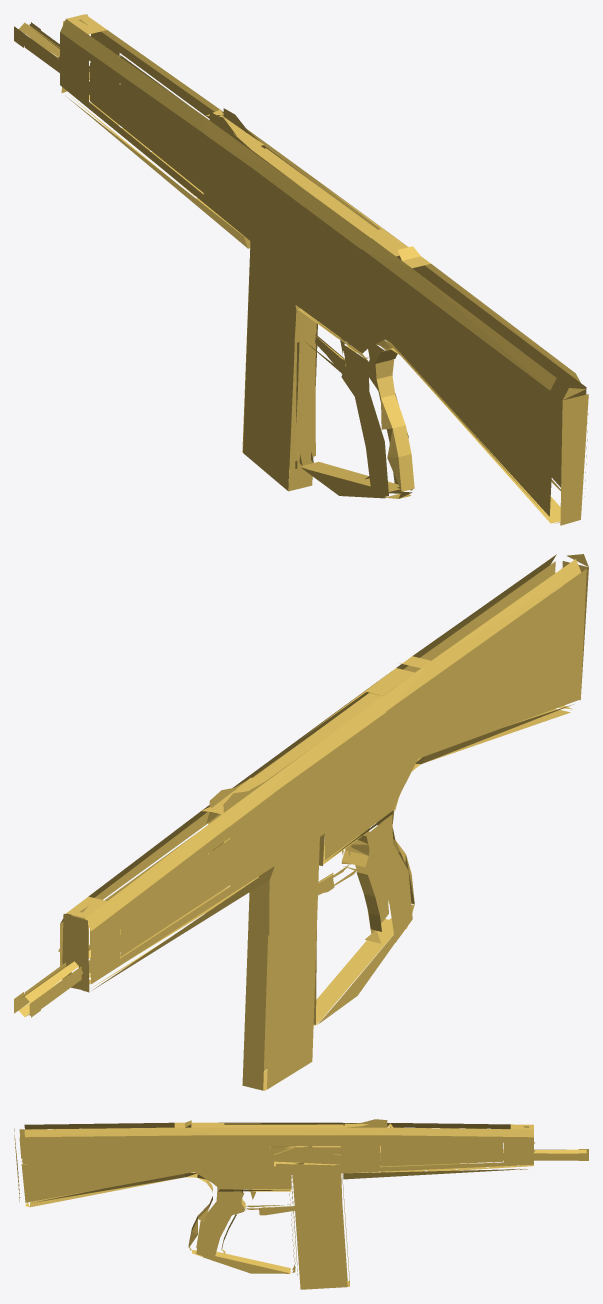
The model's file is charm_mst_shotgun_3.glb.
3 renders of one model, top to bottom at view 1: azimuth 30°, elevation 25°; view 2: azimuth 150°, elevation 25°; view 3: azimuth 270°, elevation 25°, orthographic. The views are drawn at different scales.
Visible parts, largest first — view 1: p0_paint; view 2: p0_paint; view 3: p0_paint.
Part boxes in pixels (box(x1,y1,x2,y2)): p0_paint: box(14, 14, 588, 525); p0_paint: box(14, 554, 588, 1090); p0_paint: box(14, 1119, 588, 1289).
Bounding box in the file's own units: 0.0319 × 0.3074 × 0.9658.
